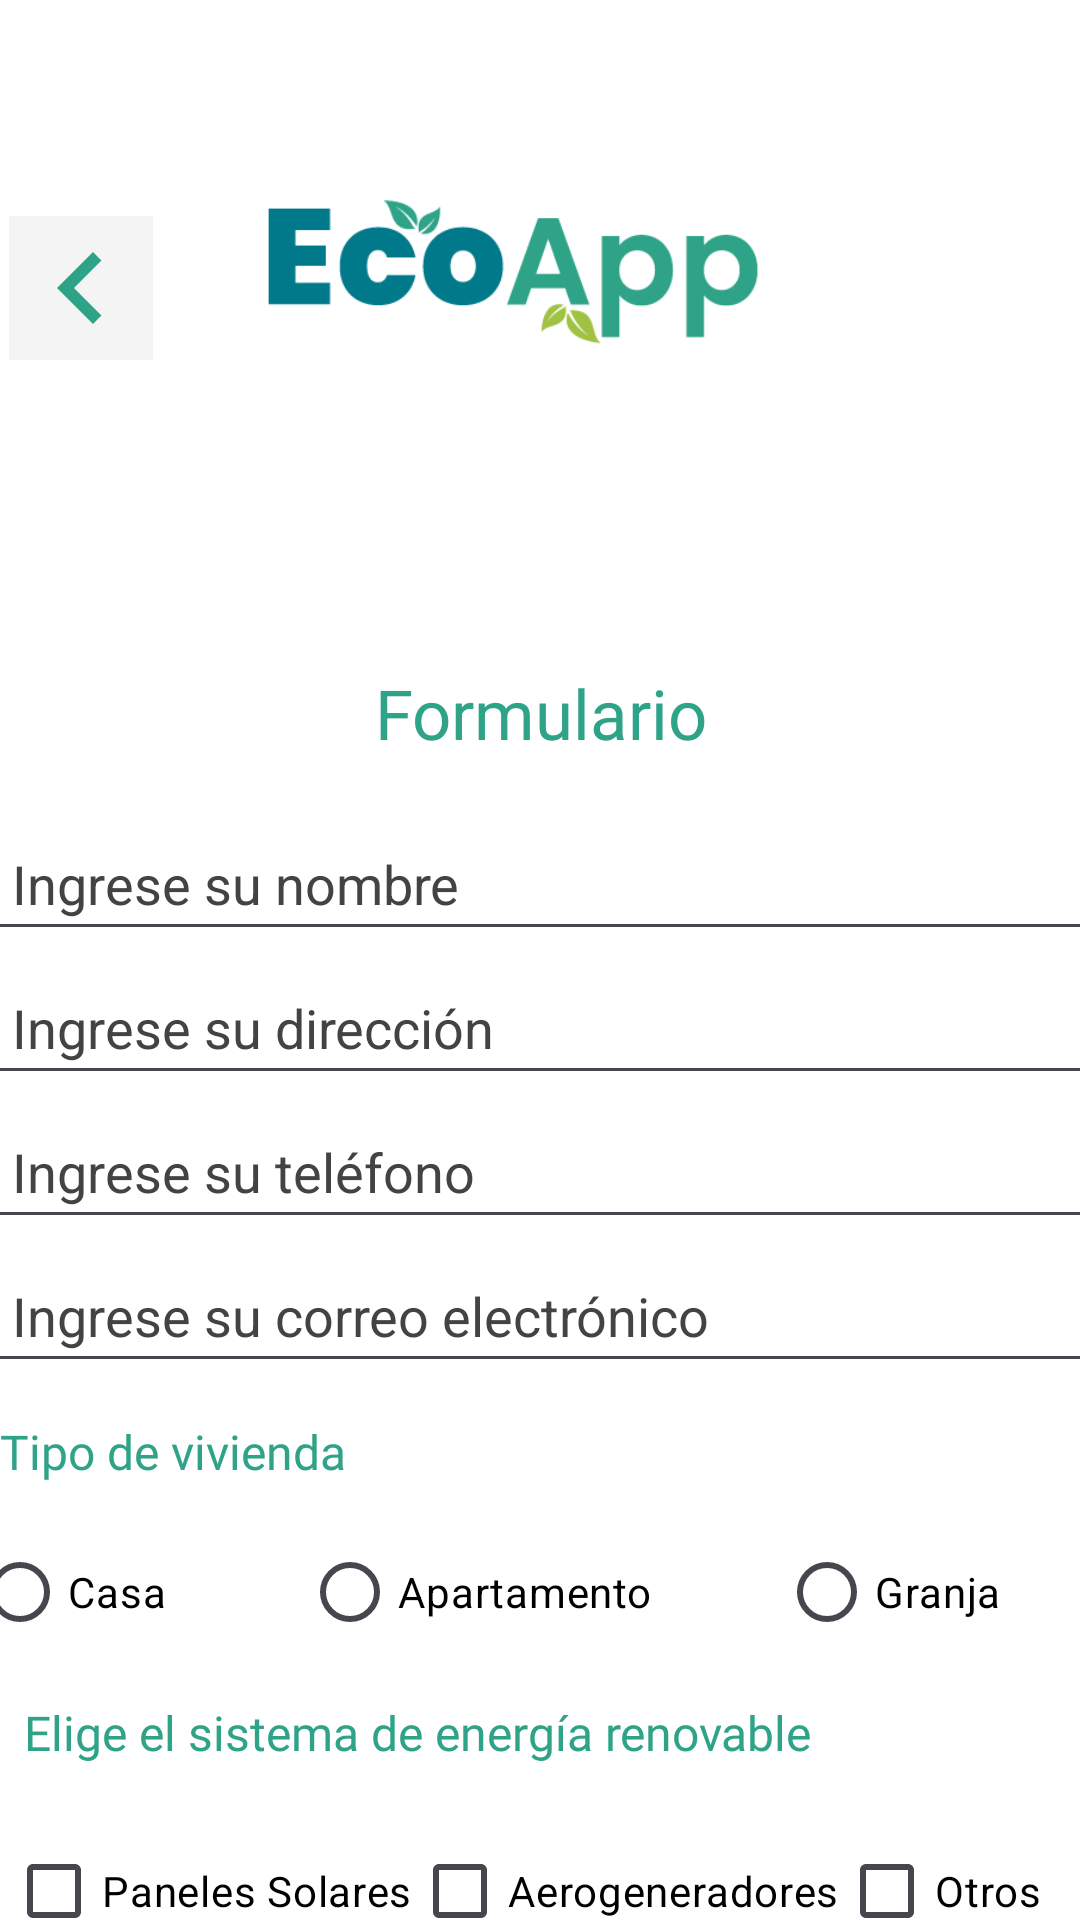

Icon bounding boxes for this 1080x1920 phone screenshot, format bbox(x1, y1, x2, y2):
volver atras: bbox(9, 216, 153, 360)
